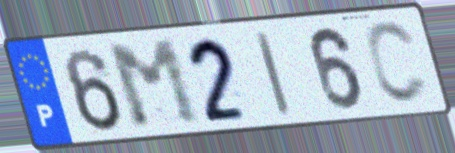2: (181, 31, 254, 128)
6: (61, 46, 124, 134), (307, 23, 366, 112)
C: (362, 18, 432, 107)
I: (252, 28, 295, 119)
M: (103, 36, 206, 133)
